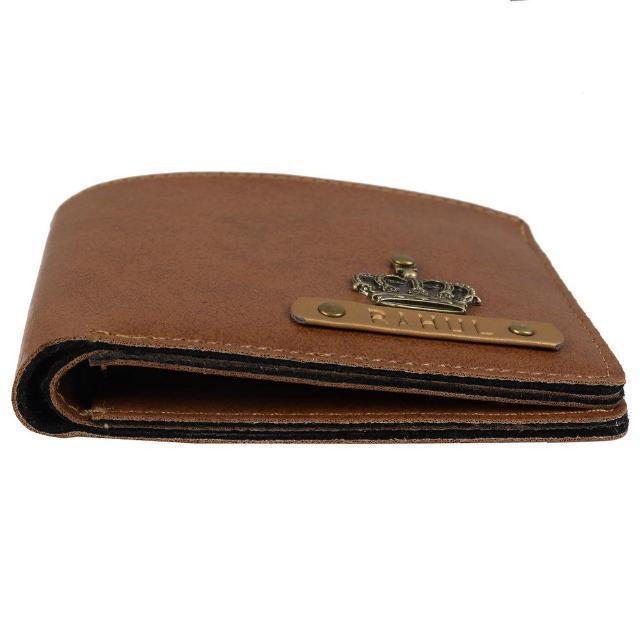wallet: (12, 170, 630, 454)
